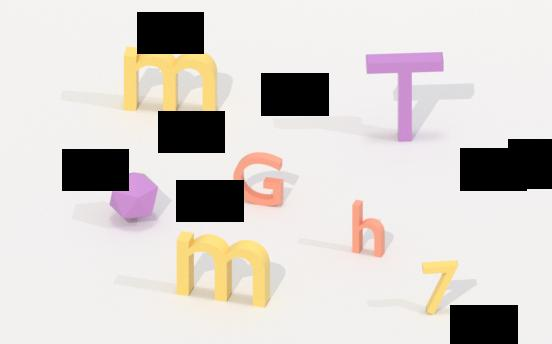7: (419, 256, 462, 315)
G-hoa: (232, 147, 288, 210)
dagiac: (110, 169, 159, 226)
h: (349, 195, 389, 261)
m: (173, 228, 273, 313), (119, 42, 221, 124)
t-hoa: (364, 47, 448, 144)
